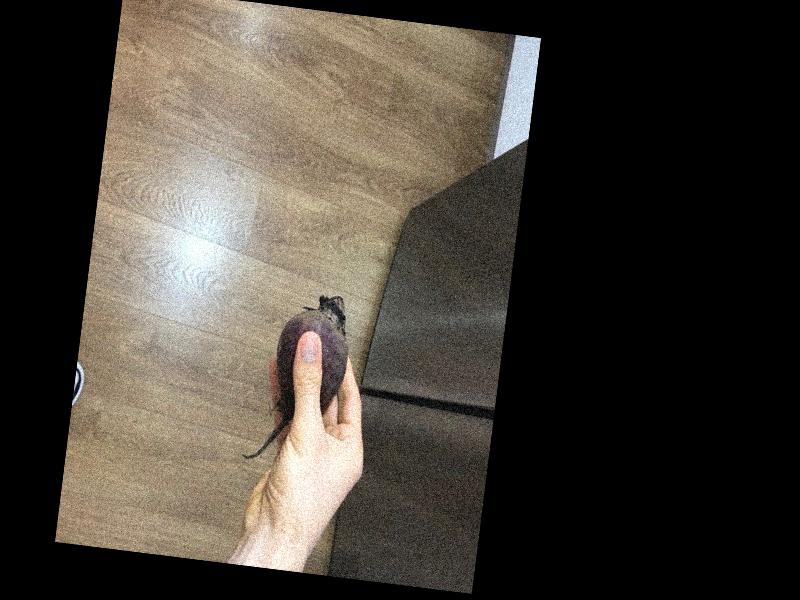Beet: (241, 285, 355, 467)
